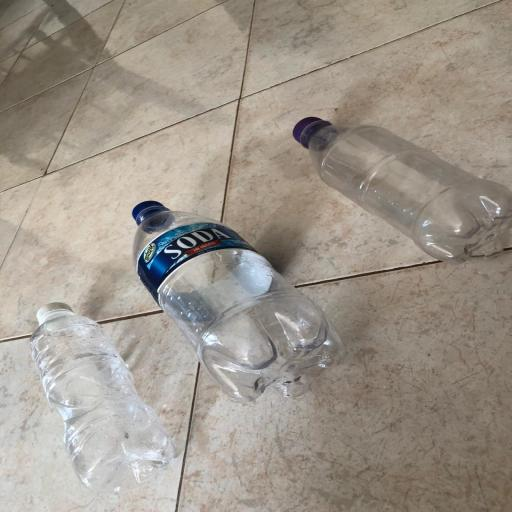waste: (113, 191, 352, 400), (273, 96, 512, 279), (20, 297, 177, 487)
